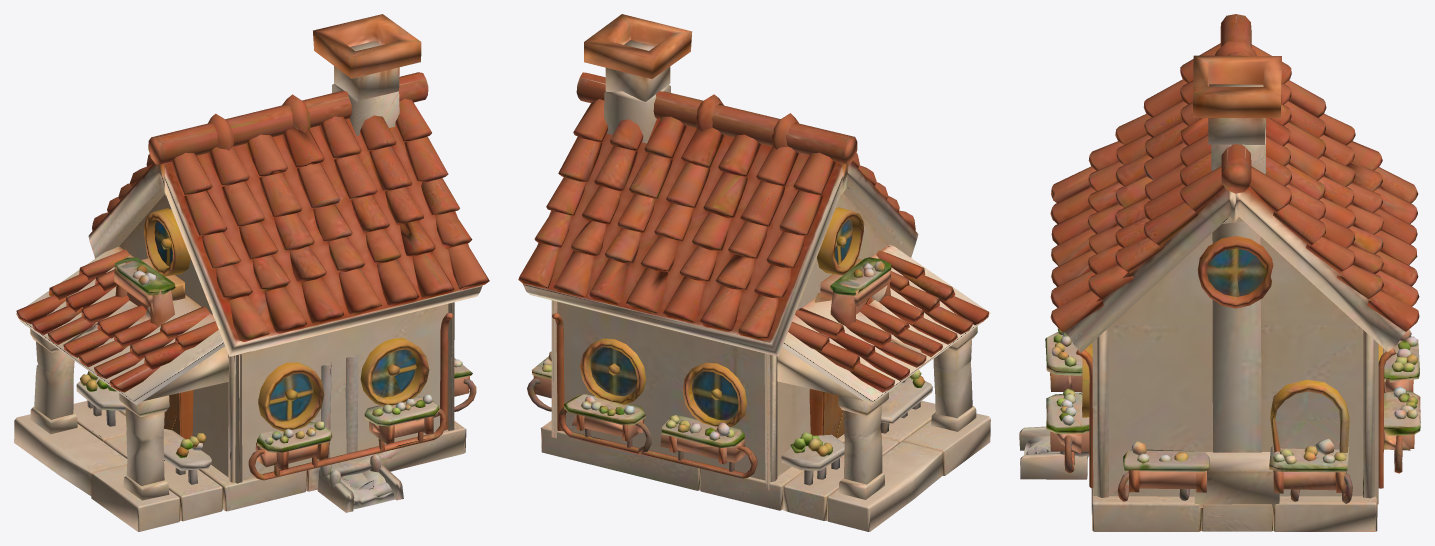
File: house-cottage.glb
The picture shows the model from 3 angles, left to right: view 1: azimuth 30°, elevation 25°; view 2: azimuth 150°, elevation 25°; view 3: azimuth 270°, elevation 25°; orthographic projection. The views are drawn at different scales.
Visible parts, largest first — view 1: house-cottage; view 2: house-cottage; view 3: house-cottage.
Boxes of the visible parts, x1,y1,x2,y2 form: house-cottage: (14,14,489,531); house-cottage: (518,14,990,531); house-cottage: (1019,14,1420,531).
Size of the model in its own units: 5 by 5.01 by 4.18.
Materials: 1 (1 with a texture image).
